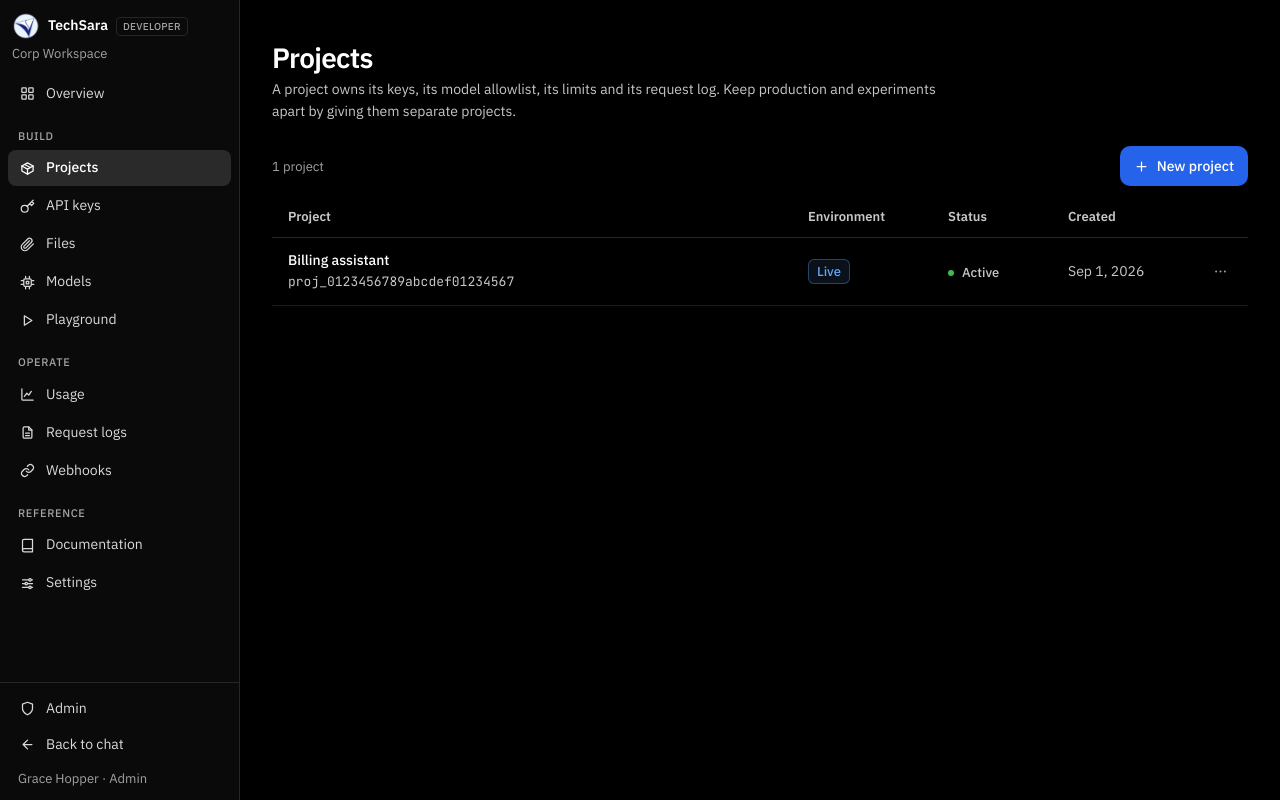
usage limits when the server does not enforce them › shows Unlimited in the project settings dialog instead of a stored rate
This screenshot has width=1280, height=800.
Click the button named "Actions for Billing assistant". click: (1220, 271)
box: [1204,255,1236,287]
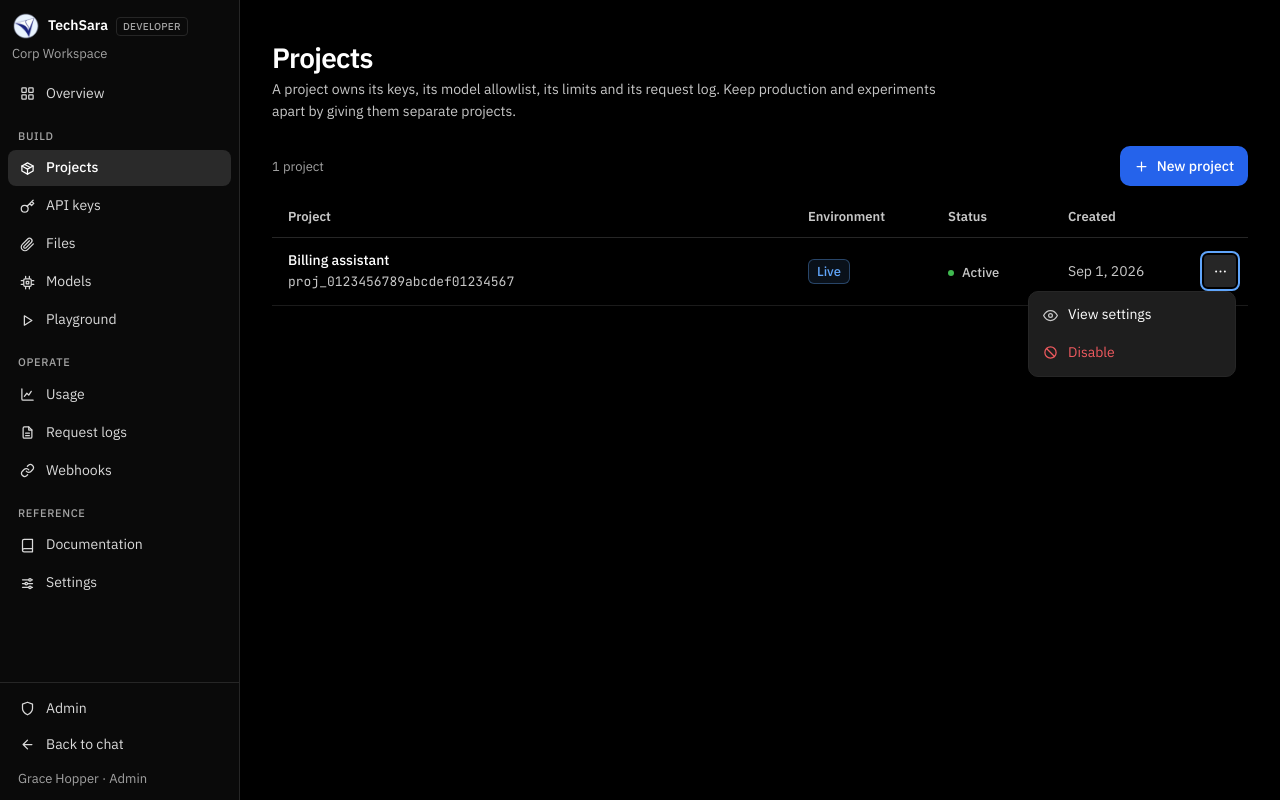
Click the menu item "View settings". click: (1132, 315)
box: [1033,296,1231,334]
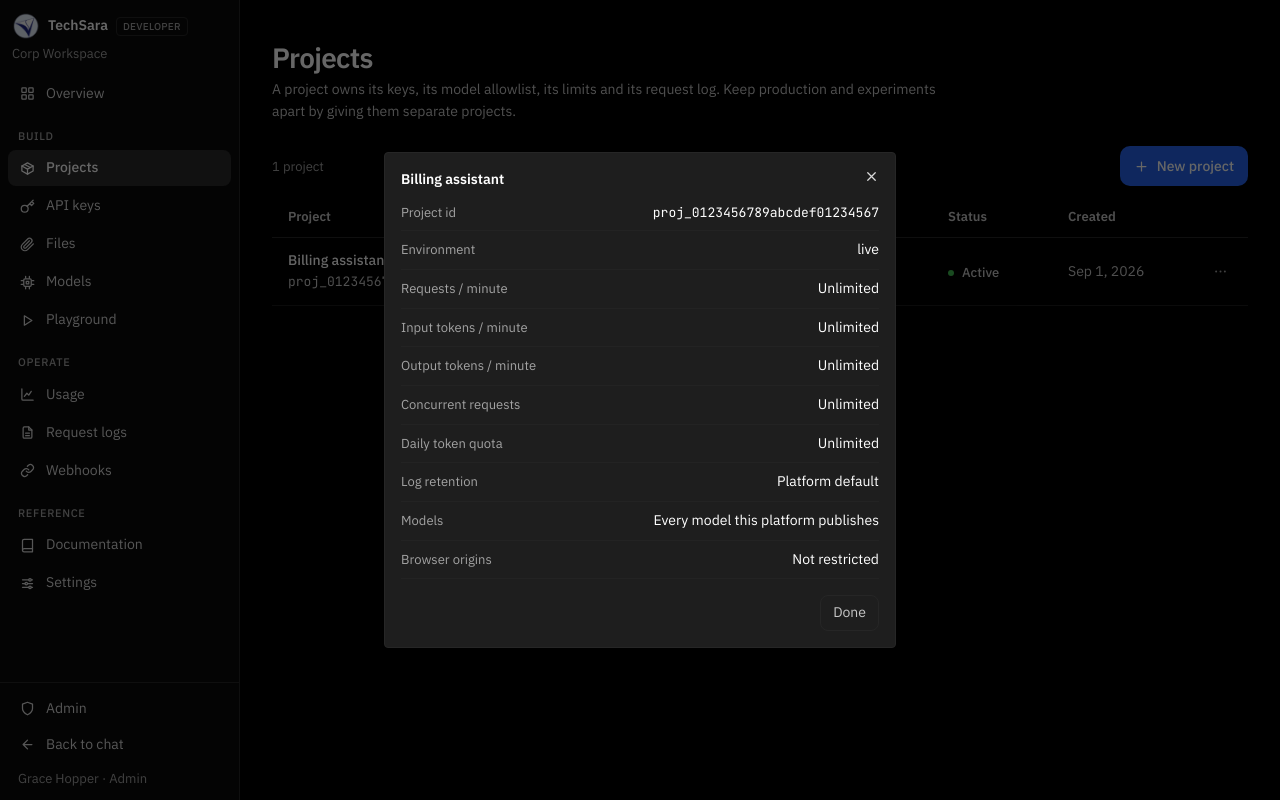
Expected: the text "Unlimited" in the row of "Requests / minute" is shown, [818,279,879,297]
Expected: the text "Unlimited" is shown 5 times, [818,278,879,300]; [818,316,879,338]; [818,355,879,377]; [818,394,879,416]; [818,433,879,454]
